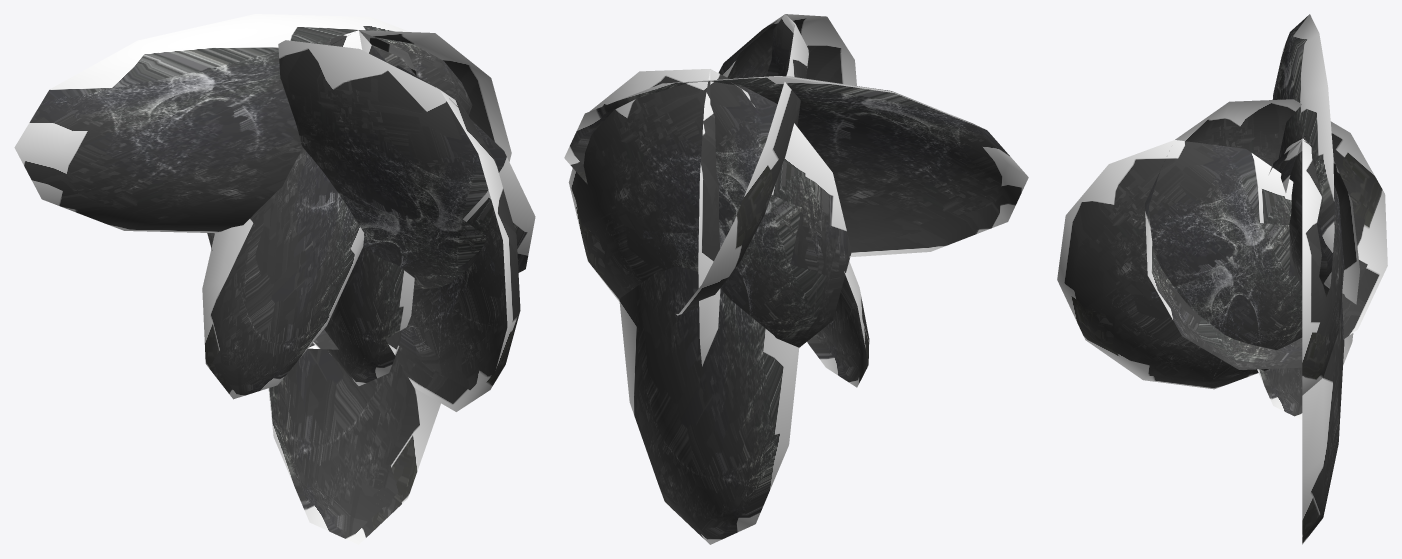
The model's file is cobweb5.FBX.
The picture shows the model from 3 angles, left to right: view 1: azimuth 30°, elevation 25°; view 2: azimuth 150°, elevation 25°; view 3: azimuth 270°, elevation 25°; orthographic projection. The views are drawn at different scales.
Parts seen in each view (by area): view 1: cobweb5; view 2: cobweb5; view 3: cobweb5.
Part boxes in pixels (x1=…): cobweb5: x1=14, y1=14, x2=535, y2=544; cobweb5: x1=564, y1=14, x2=1028, y2=544; cobweb5: x1=1057, y1=14, x2=1387, y2=544.
Bounding box in the file's own units: 149 × 157 × 109.
